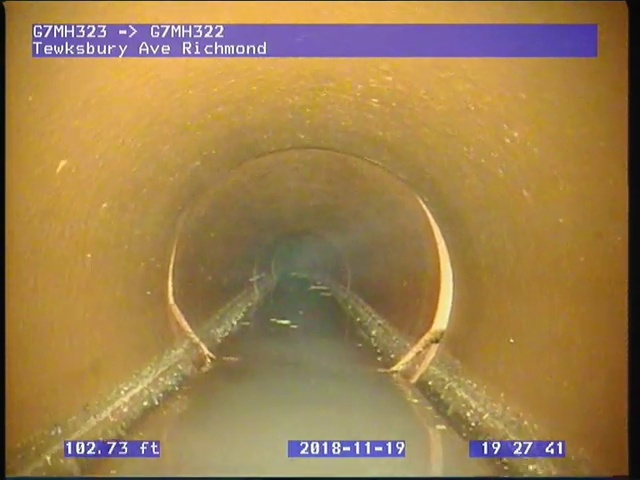crack: (377, 328, 448, 386), (190, 333, 218, 371)
